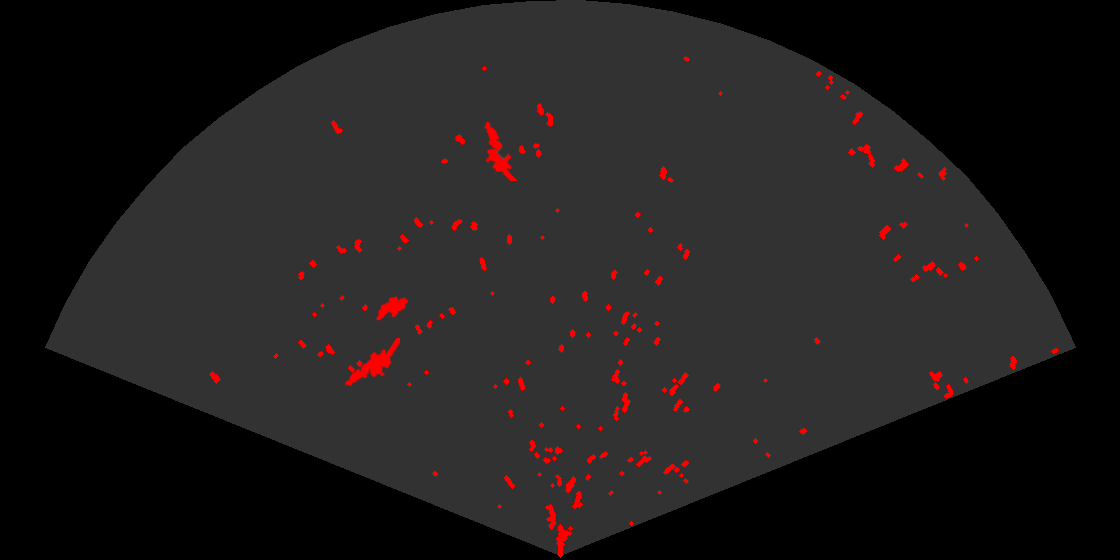AUV: (374, 295, 410, 322)
frogman: (343, 338, 400, 388), (483, 120, 519, 181)
